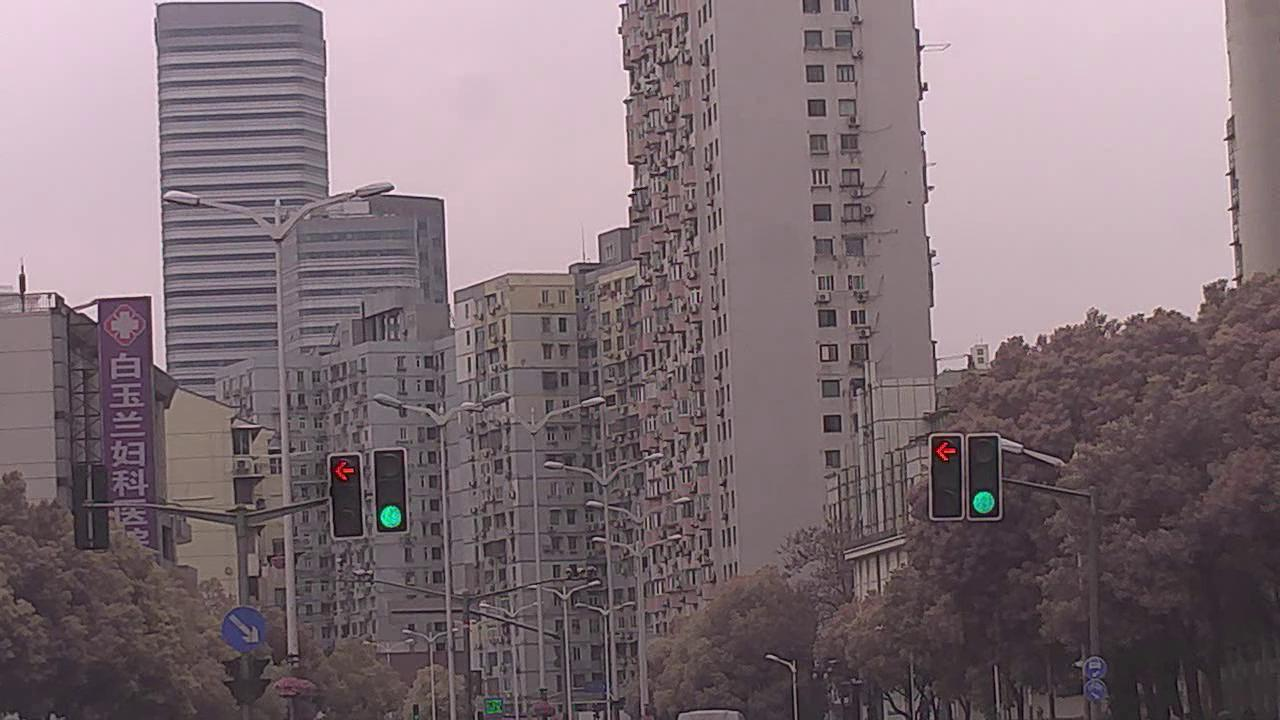traffic_light: (327, 452, 367, 541), (968, 436, 1005, 525), (932, 436, 967, 523), (374, 452, 406, 535)
